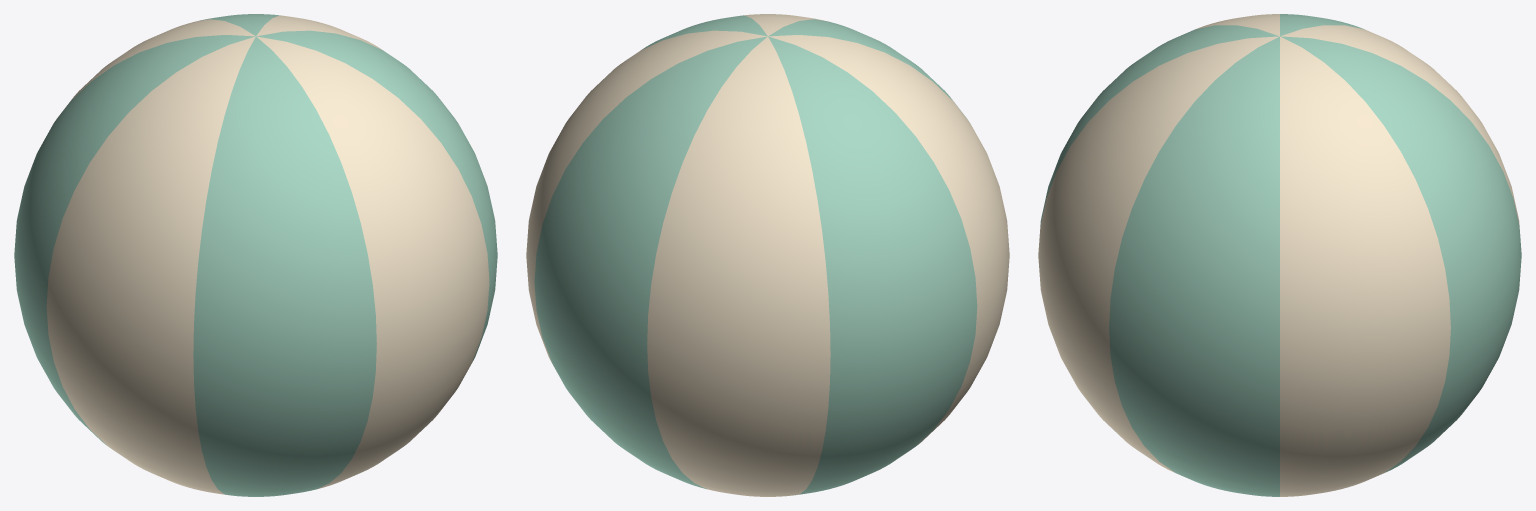
The model's file is ball.glb.
3 views of the same model, side by side, from view 1: azimuth 30°, elevation 25°; view 2: azimuth 150°, elevation 25°; view 3: azimuth 270°, elevation 25° (orthographic).
Visible parts, largest first — view 1: Ball_panel_1, Ball_panel_0, Ball_panel_2, Ball_panel_7, Ball_panel_3, Ball_panel_6, Ball_panel_4, Ball_panel_5; view 2: Ball_panel_6, Ball_panel_7, Ball_panel_5, Ball_panel_0, Ball_panel_4, Ball_panel_1, Ball_panel_3, Ball_panel_2; view 3: Ball_panel_3, Ball_panel_4, Ball_panel_2, Ball_panel_5, Ball_panel_1, Ball_panel_6, Ball_panel_0, Ball_panel_7.
Boxes of the visible parts, <box> form: Ball_panel_1: <box>193,37,376,496</box>; Ball_panel_0: <box>46,36,255,495</box>; Ball_panel_2: <box>256,36,489,489</box>; Ball_panel_7: <box>14,35,255,445</box>; Ball_panel_3: <box>256,30,497,362</box>; Ball_panel_6: <box>56,19,255,119</box>; Ball_panel_4: <box>256,15,382,50</box>; Ball_panel_5: <box>199,14,279,35</box>; Ball_panel_6: <box>647,37,830,496</box>; Ball_panel_7: <box>768,36,977,495</box>; Ball_panel_5: <box>534,36,767,489</box>; Ball_panel_0: <box>768,35,1009,445</box>; Ball_panel_4: <box>526,30,767,362</box>; Ball_panel_1: <box>768,19,967,119</box>; Ball_panel_3: <box>641,15,767,50</box>; Ball_panel_2: <box>744,14,824,35</box>; Ball_panel_3: <box>1109,36,1279,496</box>; Ball_panel_4: <box>1280,36,1450,496</box>; Ball_panel_2: <box>1038,36,1279,472</box>; Ball_panel_5: <box>1280,36,1521,472</box>; Ball_panel_1: <box>1040,25,1278,225</box>; Ball_panel_6: <box>1281,25,1519,225</box>; Ball_panel_0: <box>1195,14,1279,36</box>; Ball_panel_7: <box>1280,14,1364,36</box>.
Bounding box in the file's own units: 0.52 × 0.52 × 0.52.
